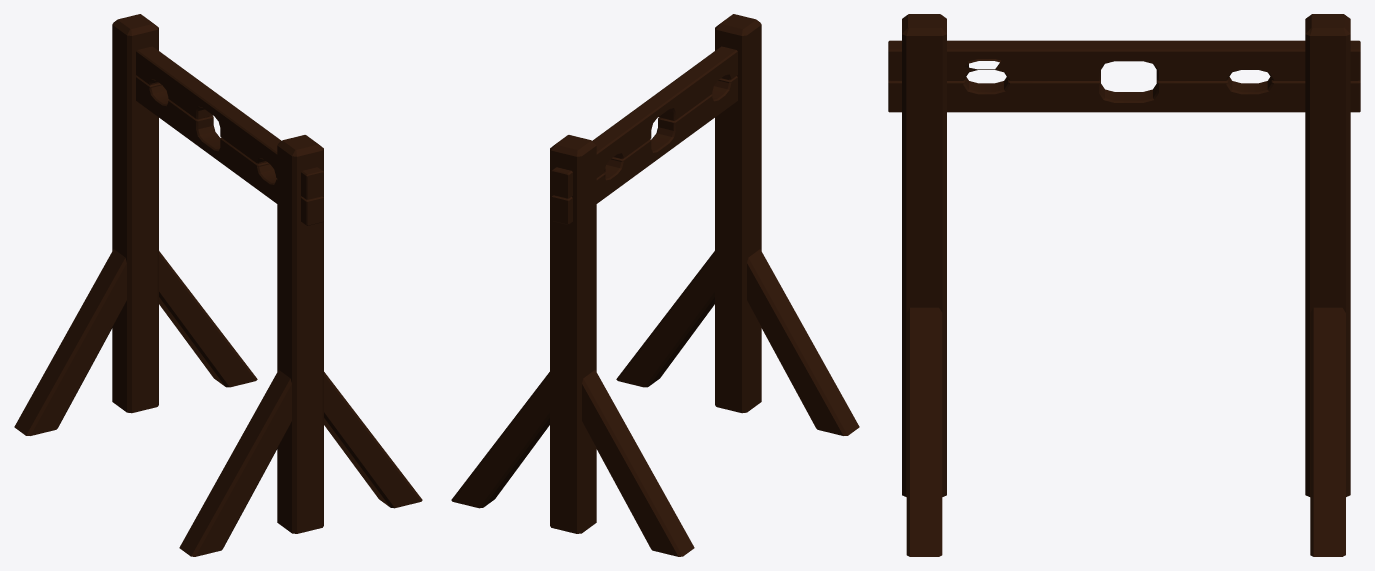
The model's file is SM_PillorySingle.fbx.
3 views of the same model, side by side, from view 1: azimuth 30°, elevation 25°; view 2: azimuth 150°, elevation 25°; view 3: azimuth 270°, elevation 25° (orthographic). The views are drawn at different scales.
Visible parts, largest first — view 1: Pillory_Single; view 2: Pillory_Single; view 3: Pillory_Single.
Part boxes in pixels (box(x1,y1,x2,y2)): Pillory_Single: box(14, 14, 422, 556); Pillory_Single: box(451, 14, 859, 556); Pillory_Single: box(888, 14, 1360, 556).
Bounding box in the file's own units: 4.17 × 6.57 × 6.03.
